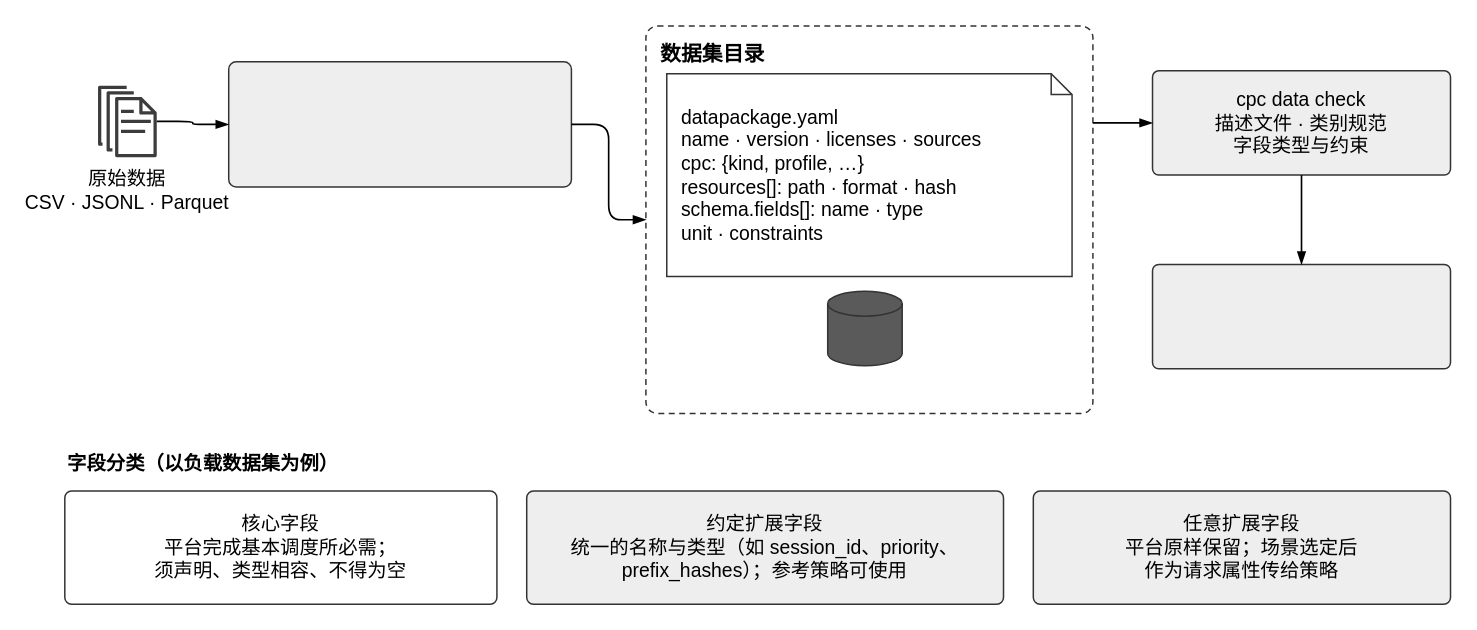
Image size: 1477x630. Some labels were removed from this diagram. Each missing label, with the centre of its shape:
requests.parquet / signals.csv: point 864,328
场景引用 dataset: ${CPC_DATA_DIR}/… workload.attributes: point 1301,316
转换脚本（用户的清洗过程） 字段映射 · 单位换算 · 排序 显式的转换参数: point 399,123
